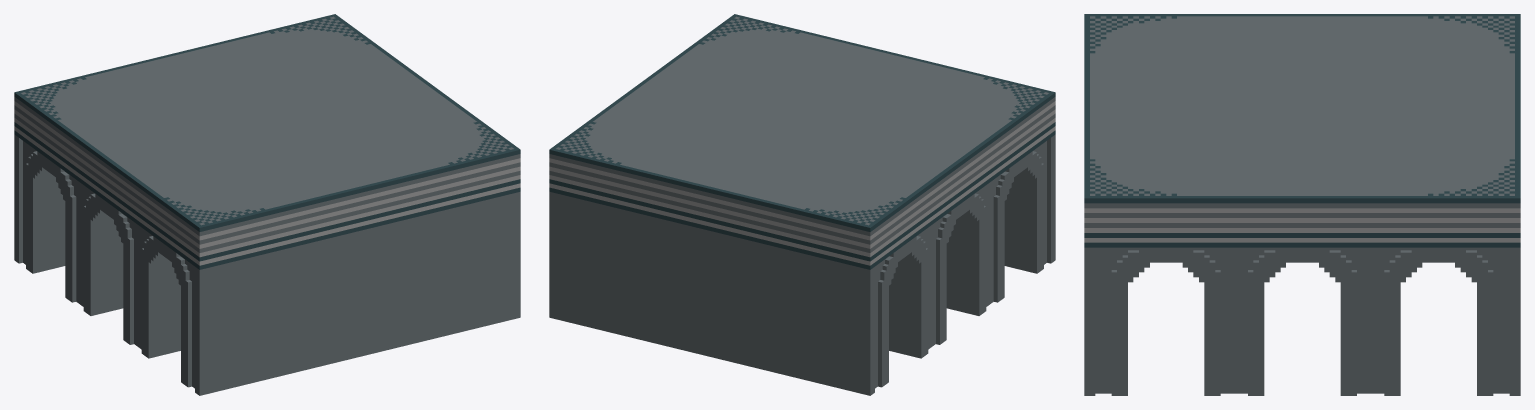
Rendered from bridge2_stone.obj.
The picture shows the model from 3 angles, left to right: view 1: azimuth 30°, elevation 25°; view 2: azimuth 150°, elevation 25°; view 3: azimuth 270°, elevation 25°; orthographic projection. The views are drawn at different scales.
Size of the model in its own units: 8 by 4 by 8.
1 material, 1 textured.
